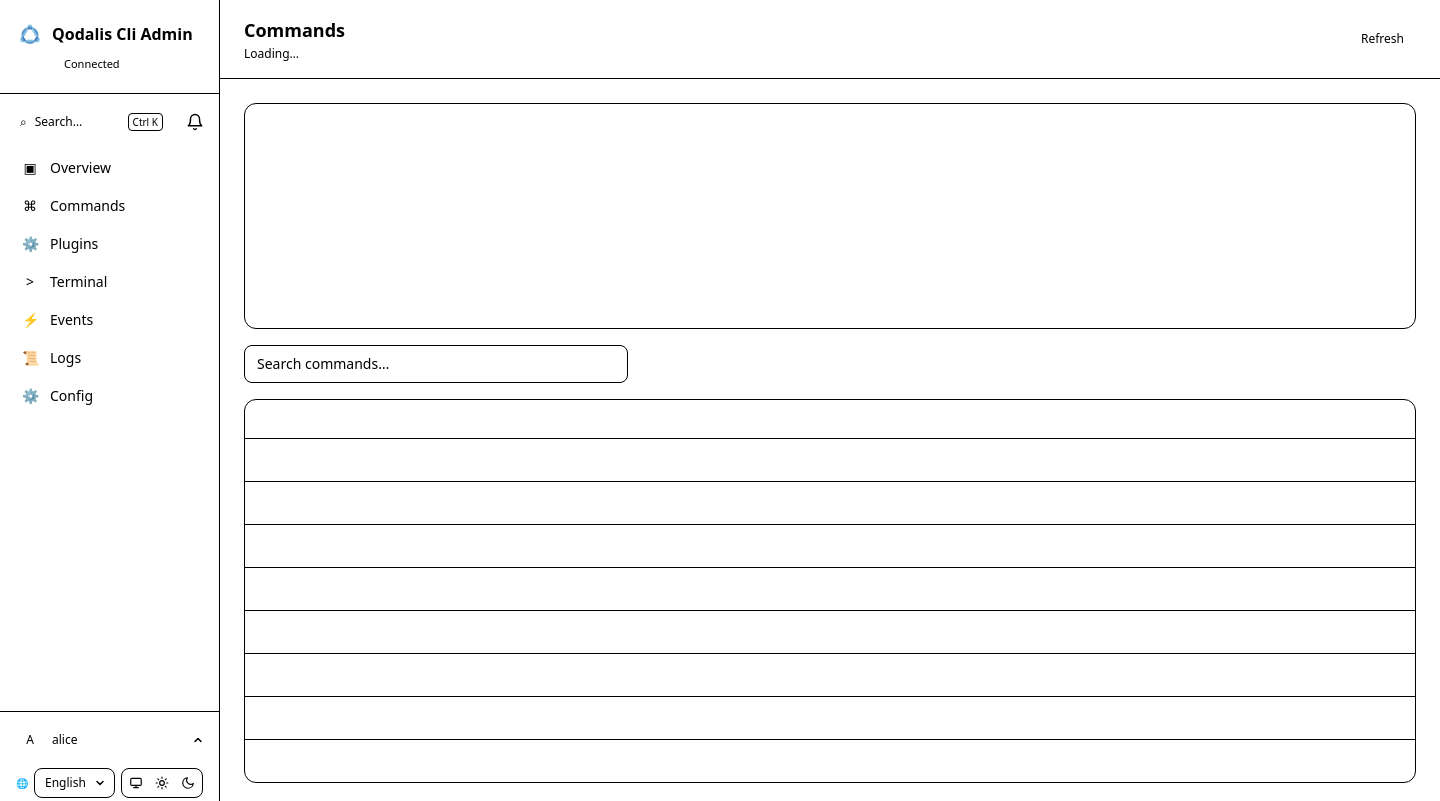
Test: events socket › keeps a single socket across route changes
Earlier steps of the test are not shown.
expect the heading "Commands" is shown: met, box [244,16,345,44]
What coordinates should you click on to do the following:
click the link "⚡ Events"
I would click on:
 (57, 319)
Its box is [22,310,93,328].
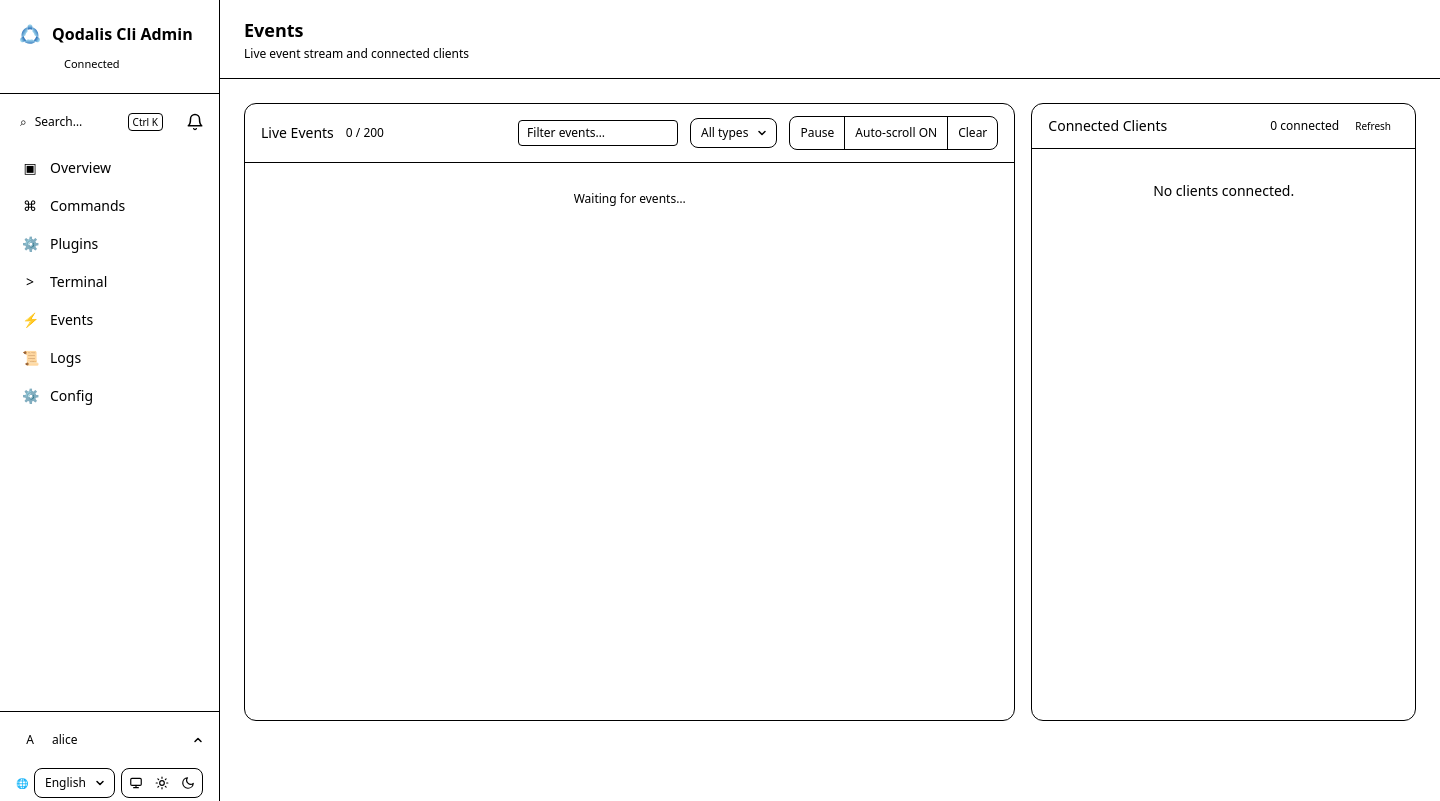
expect the heading "Events" is shown: met, box [244,18,304,42]
What coordinates should you click on to do the following:
click the link "⚙ Plugins"
I would click on:
 (60, 243)
Its box is [22,234,98,252].
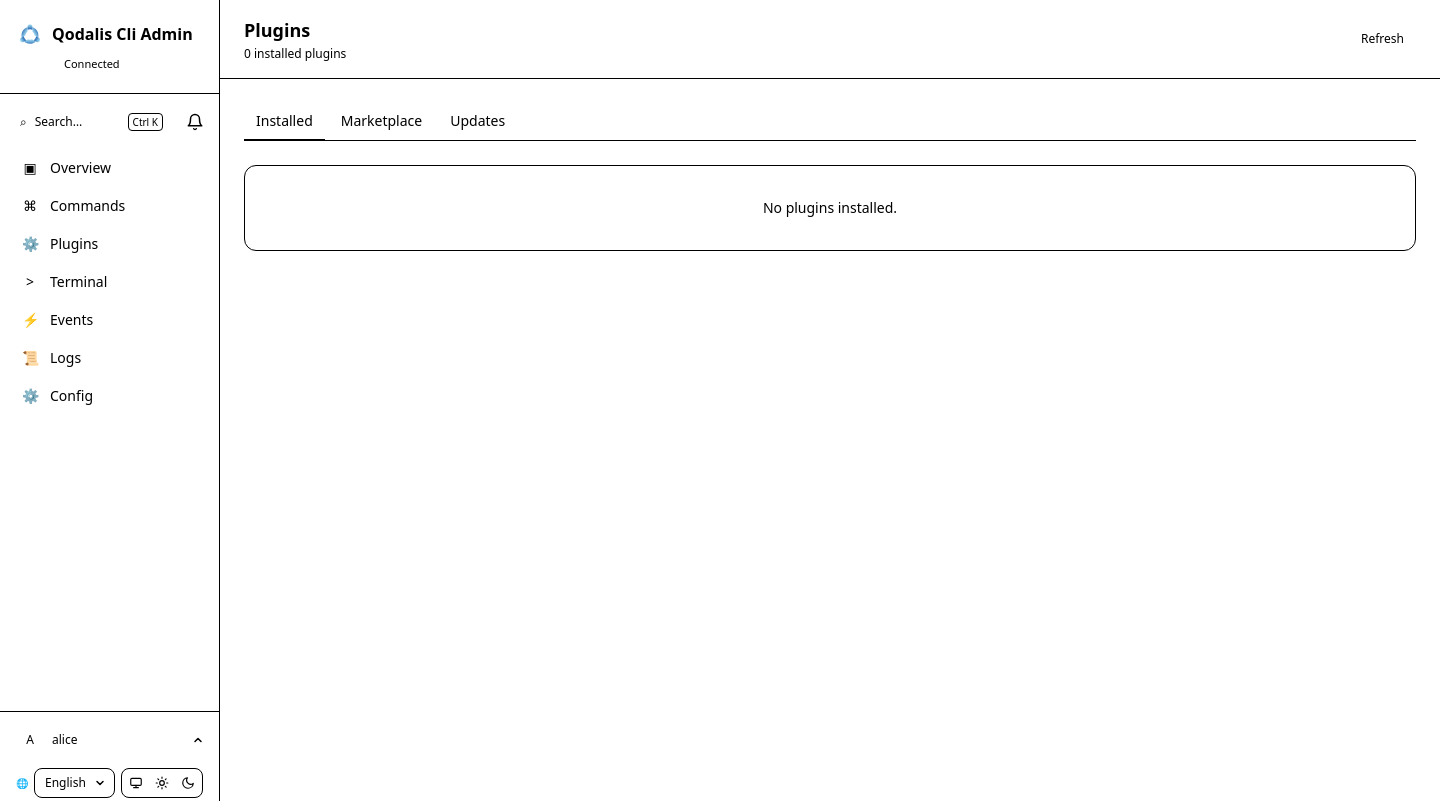
expect the heading "Plugins" is shown: met, box [244,18,310,42]
What coordinates should you click on to do the following:
click the link "📜 Logs"
I would click on:
 (51, 357)
Its box is [22,348,81,366].
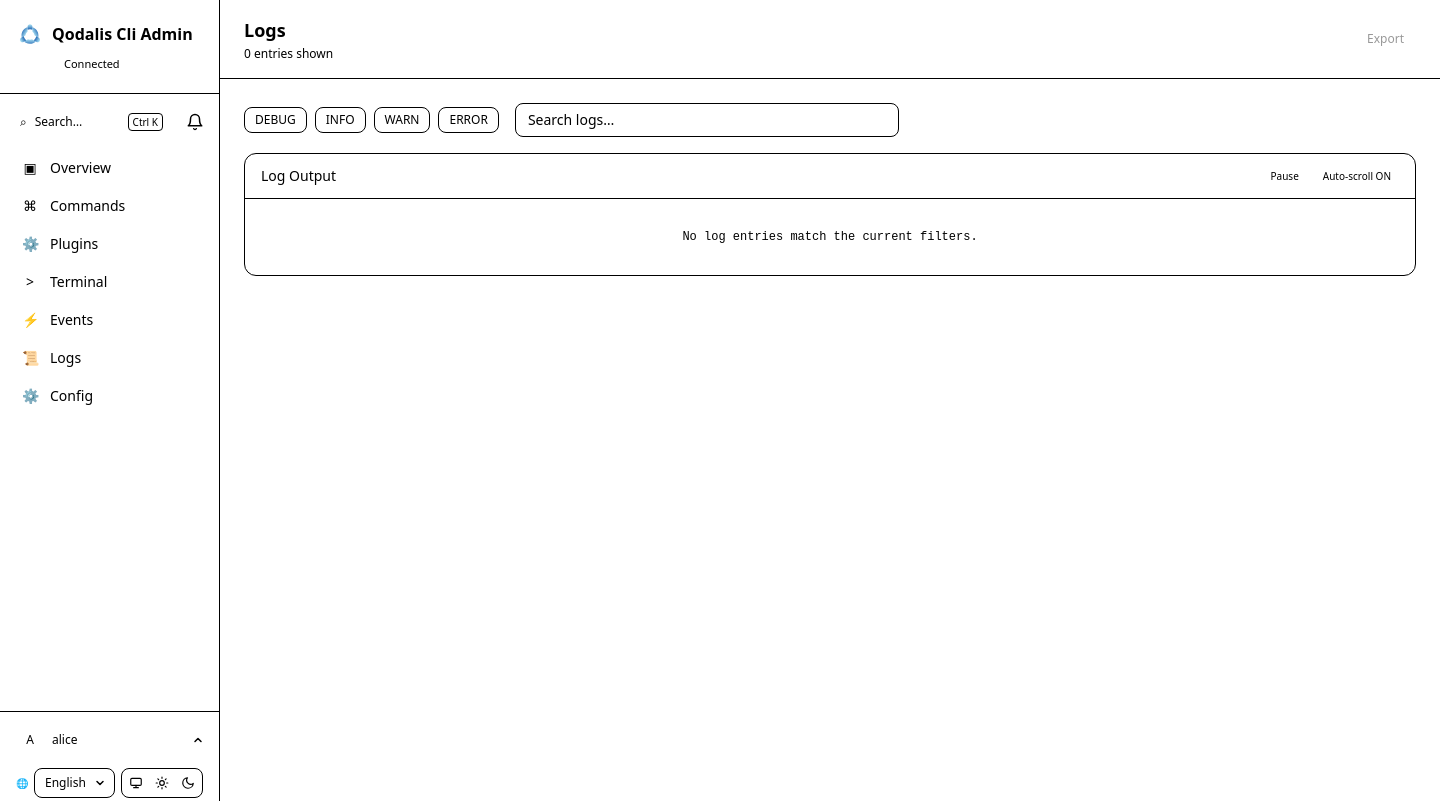
expect the heading "Logs" is shown: met, box [244,18,286,42]
What coordinates should you click on to do the following:
click the link "⚙ Config"
I would click on:
 (57, 395)
Its box is [22,386,93,404].
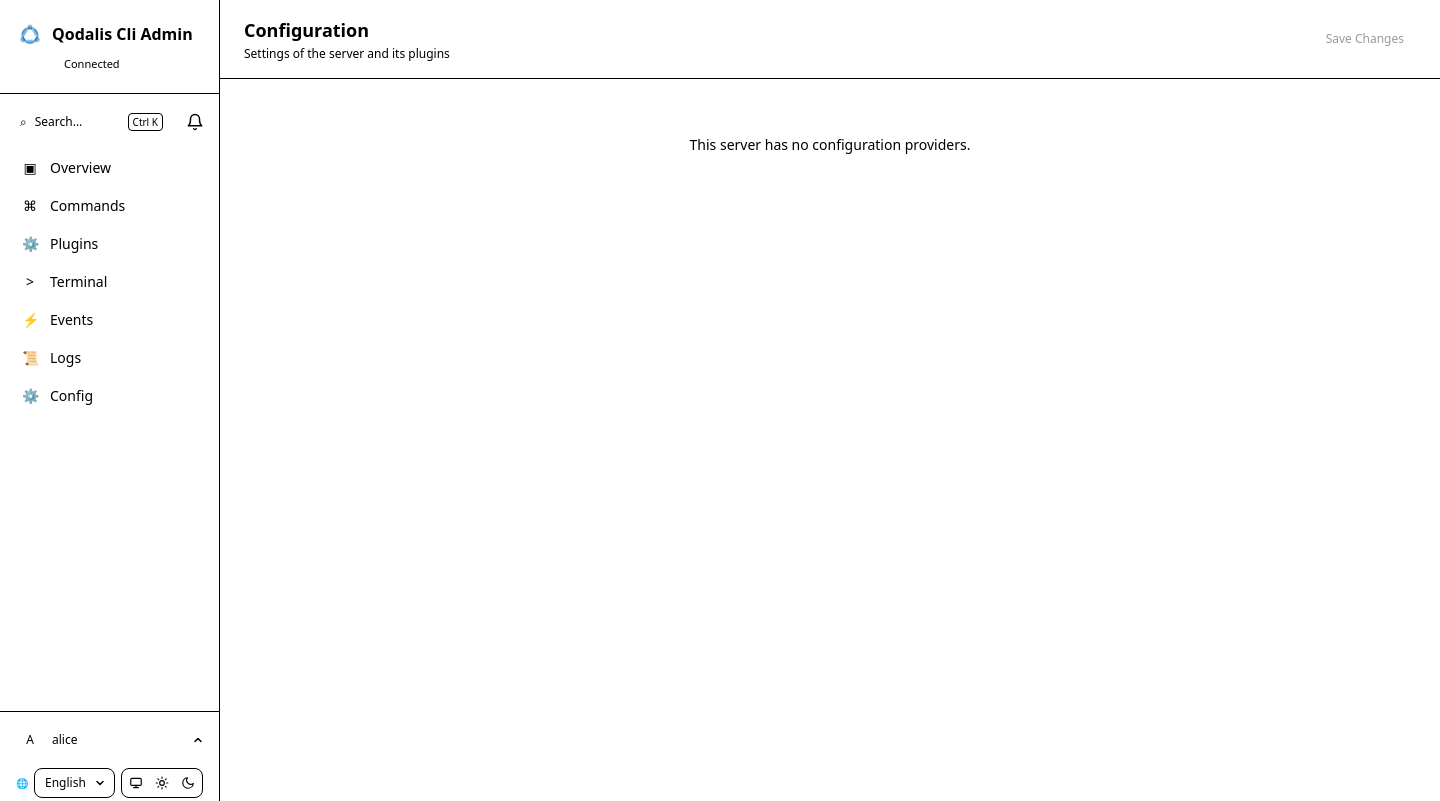
expect the heading "Configuration" is shown: met, box [244,18,369,42]
What coordinates should you click on to do the following:
click the link "▣ Overview"
I would click on:
 (67, 167)
Its box is [23,158,111,176].
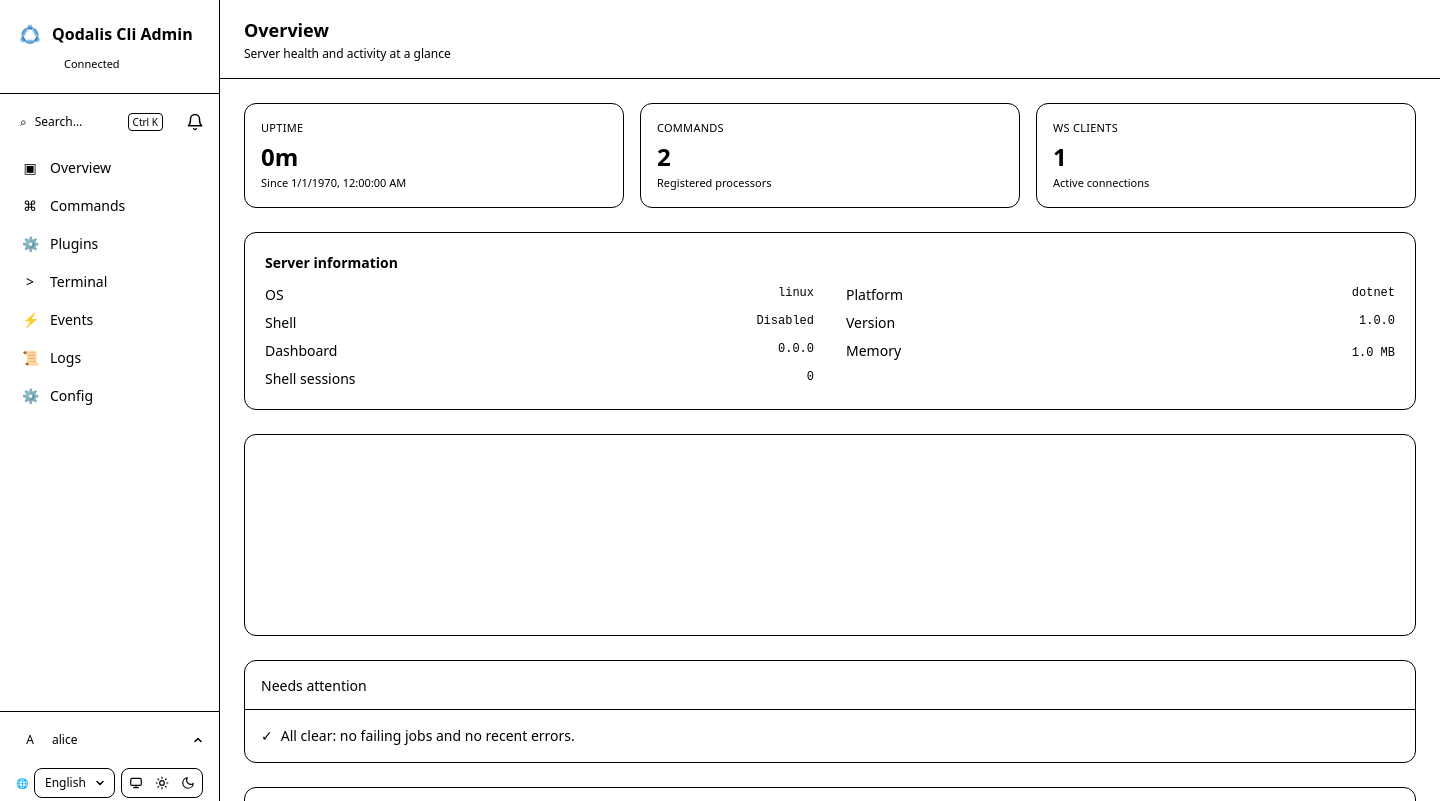
expect the heading "Overview" is shown: met, box [244,18,329,42]
What coordinates should you click on to do the following:
click the link "⚡ Events"
I would click on:
 (57, 319)
Its box is [22,310,93,328].
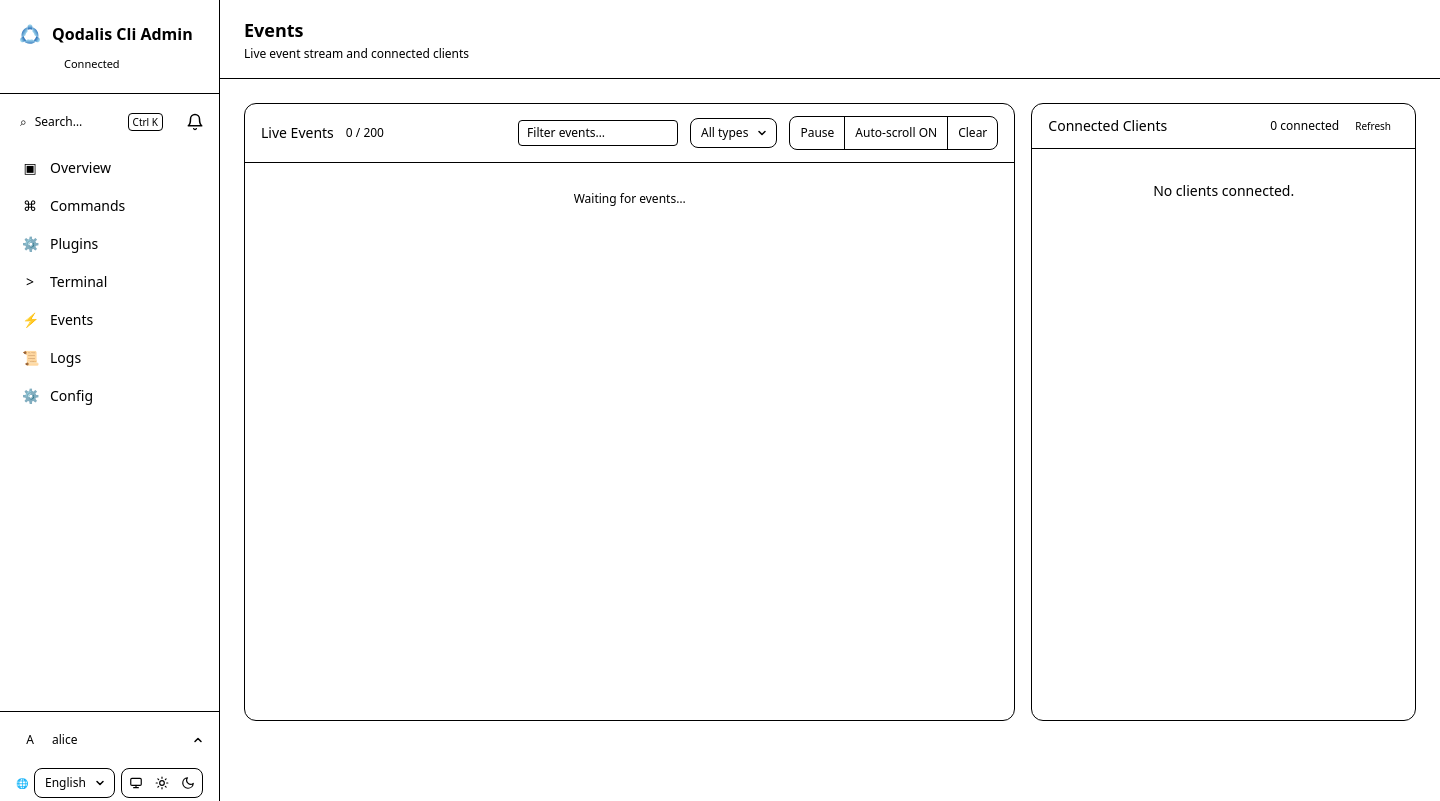
expect the heading "Events" is shown: met, box [244,18,304,42]
